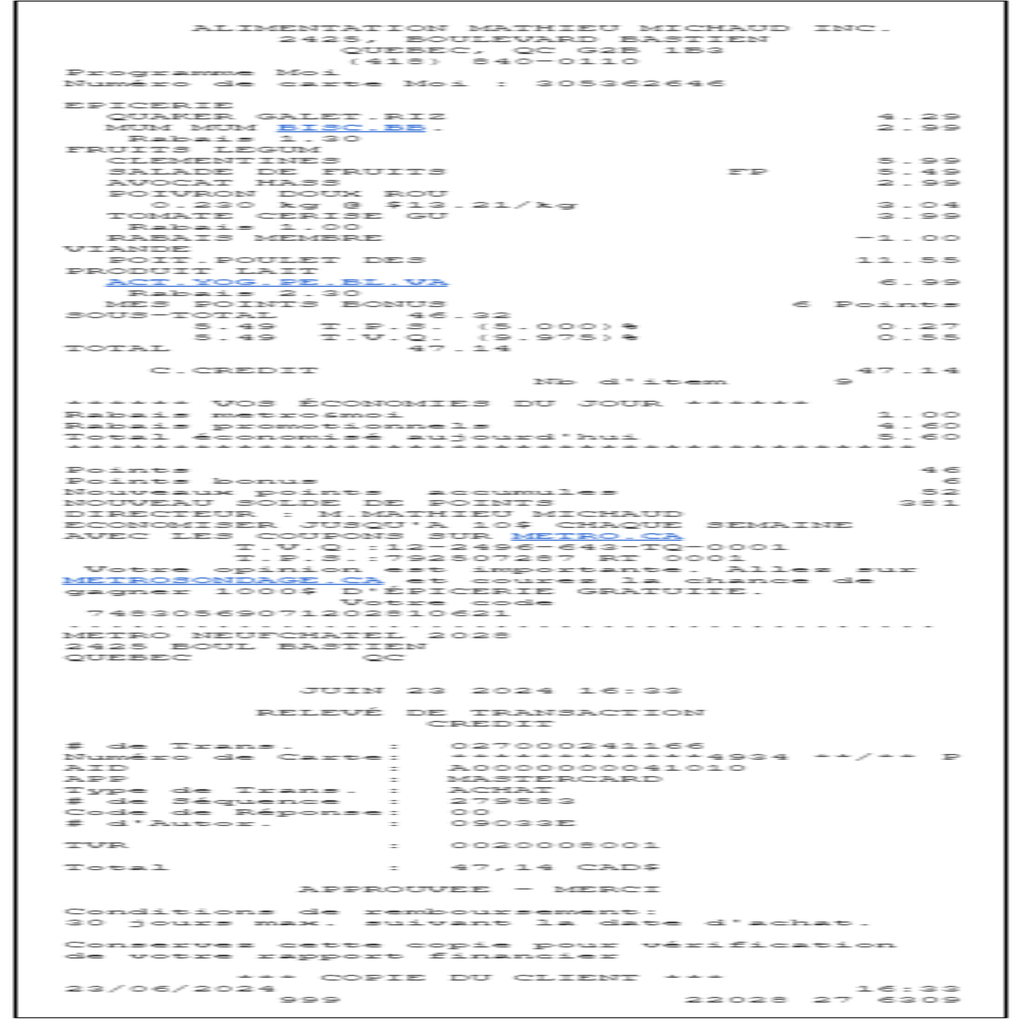recipt: (17, 0, 1011, 1018)
